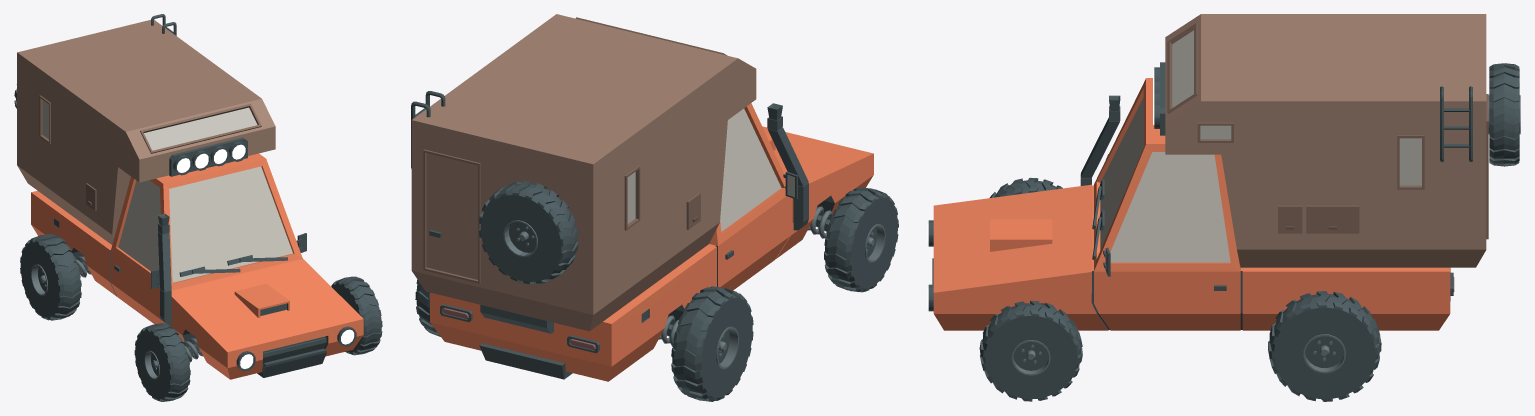
The model's file is car.truck.glb.
3 renders of one model, left to right at view 1: azimuth 30°, elevation 25°; view 2: azimuth 150°, elevation 25°; view 3: azimuth 270°, elevation 25°, orthographic. The views are drawn at different scales.
Visible parts, largest first — view 1: car.truck; view 2: car.truck; view 3: car.truck.
Boxes of the visible parts, x1,y1,x2,y2 form: car.truck: [14, 14, 382, 401]; car.truck: [411, 14, 898, 401]; car.truck: [927, 14, 1520, 401].
Size of the model in its own units: 2.56 by 2.51 by 4.65.
